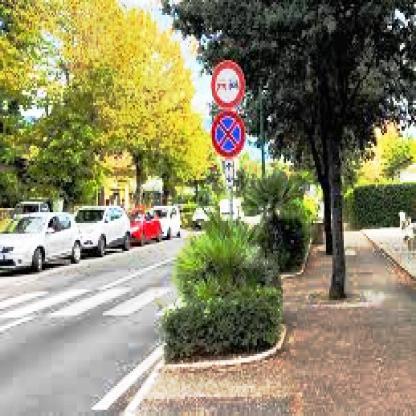No stopping: (207, 111, 249, 159)
